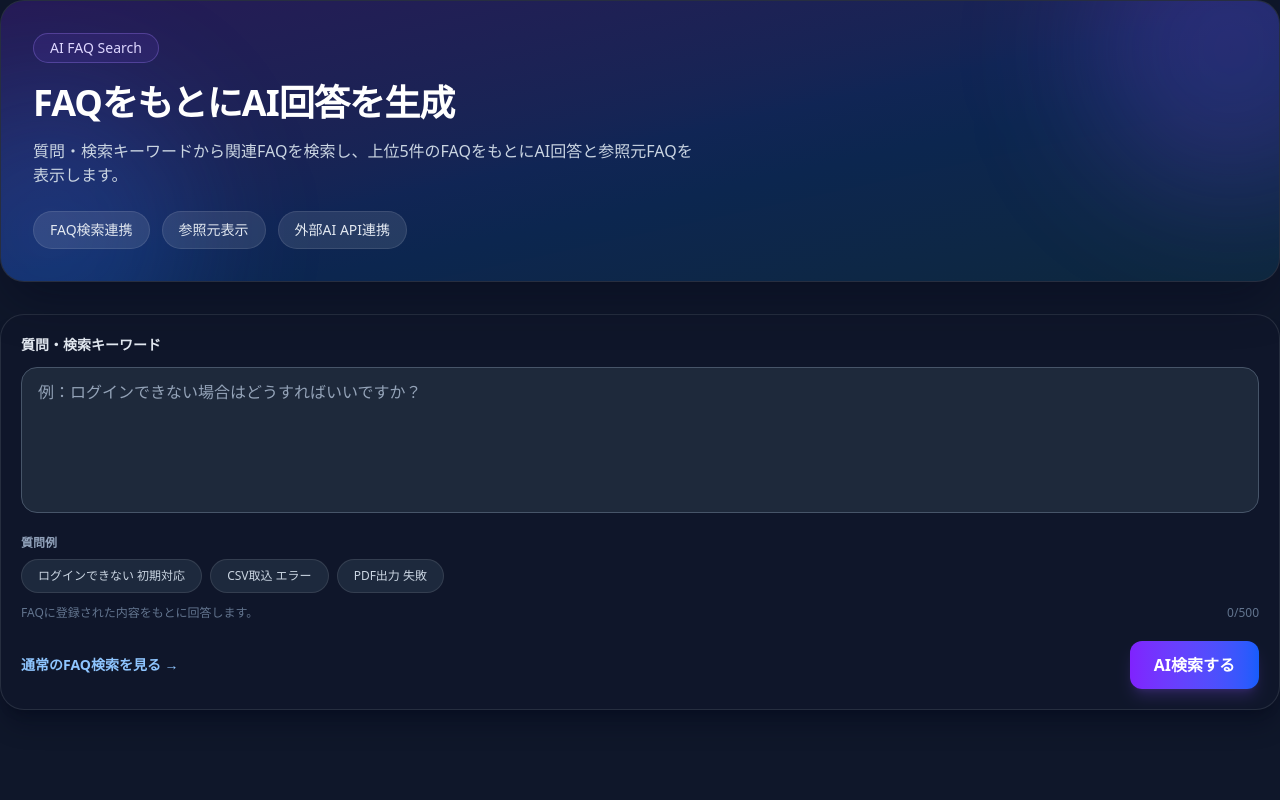
AiSearchPage › 未入力で検索するとエラーメッセージを表示し、APIを呼ばない
Click the button "AI検索する".
click(1194, 665)  # box 1130,641 -> 1259,689
(page scrolled)
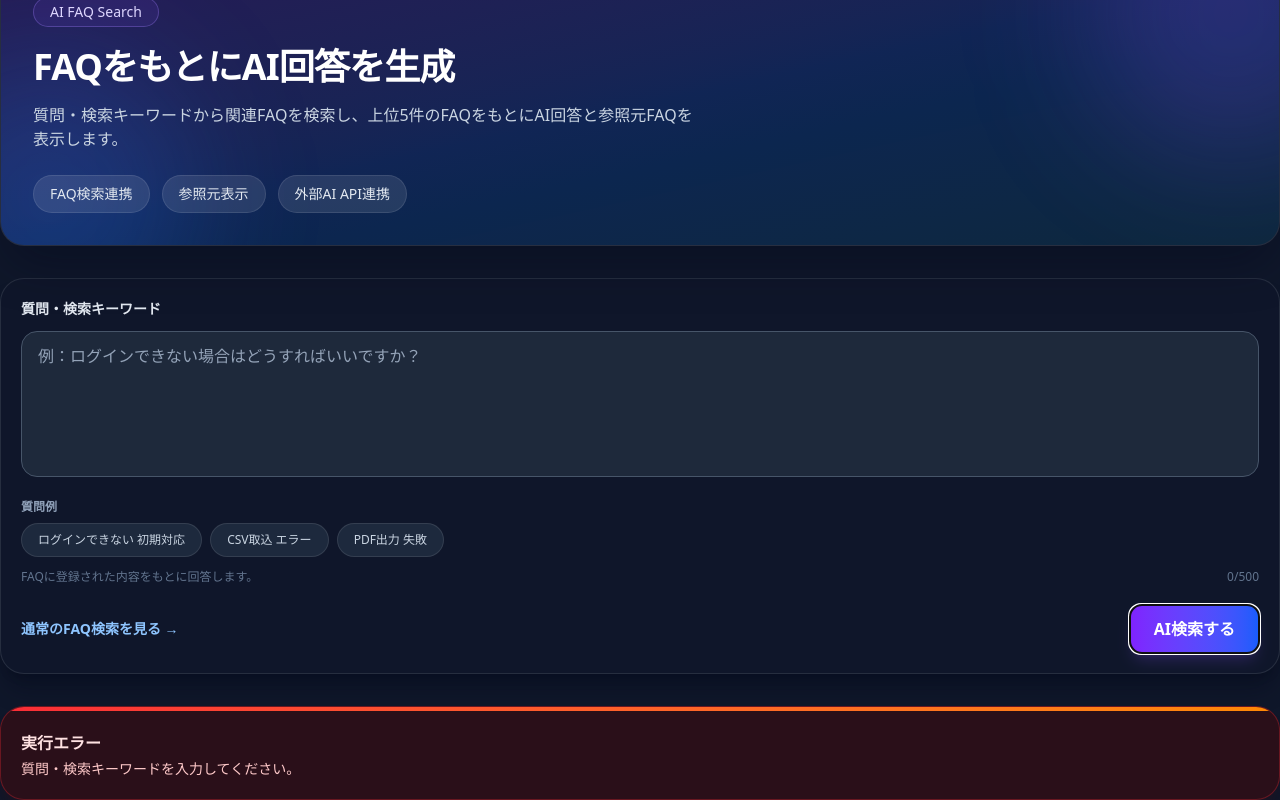
Check: the text "実行エラー" is shown, box 21,732 -> 101,754
Check: the text "質問・検索キーワードを入力してください。" is shown, box 21,759 -> 300,778
